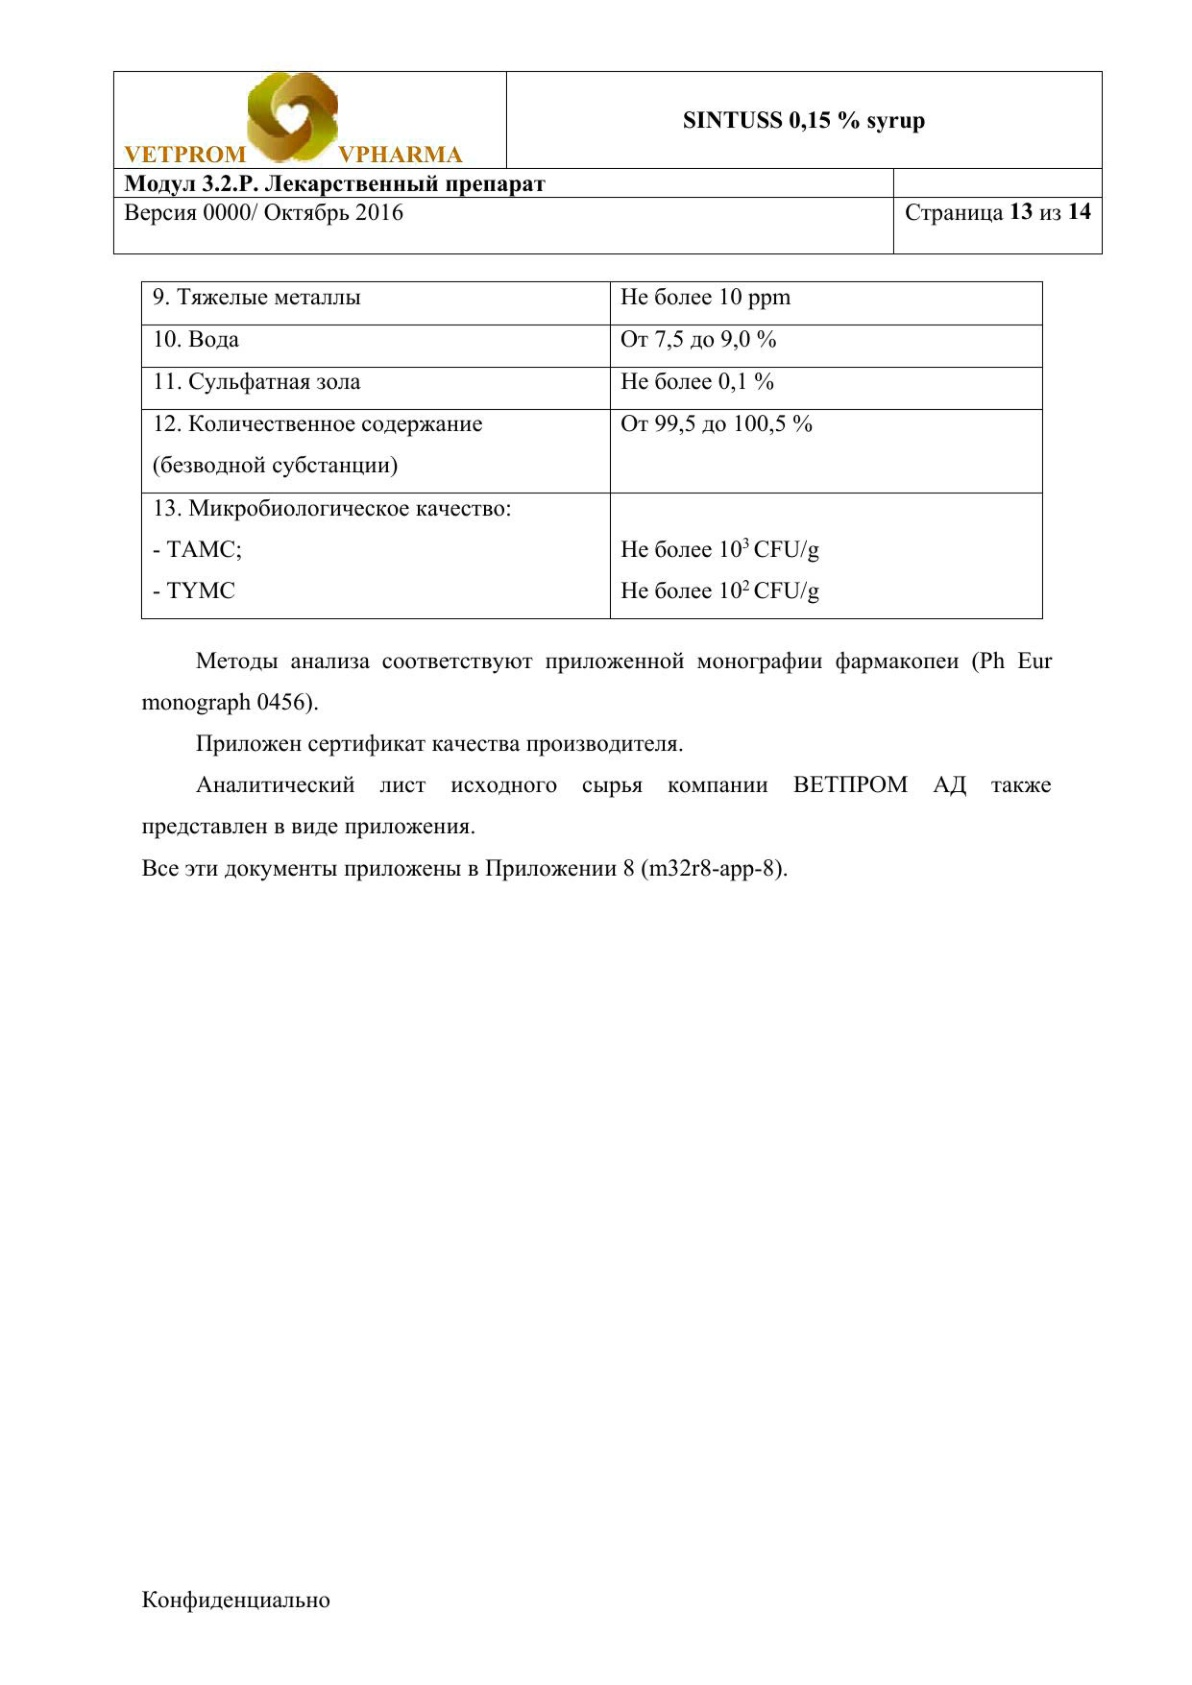full_lined: (141, 280, 1044, 621)
merged_cells: (112, 70, 1104, 255)
